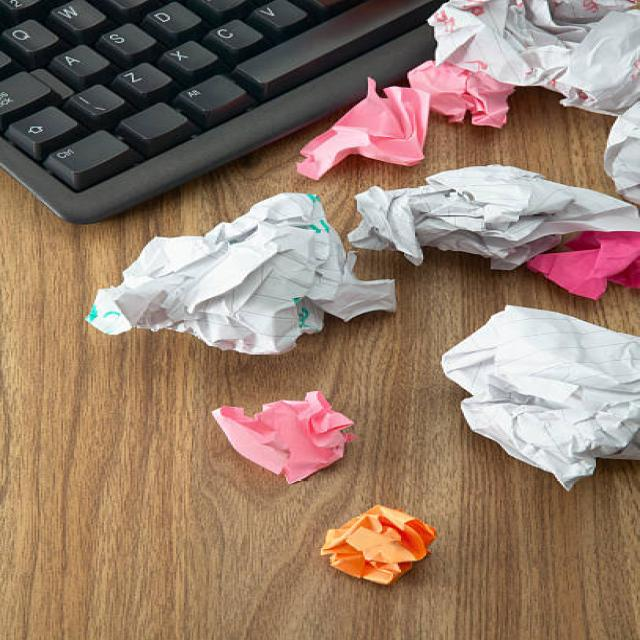electronic: (84, 192, 396, 354), (439, 304, 638, 492), (346, 163, 638, 270), (424, 0, 638, 116), (209, 389, 357, 484), (294, 76, 429, 180), (319, 504, 437, 586), (526, 229, 638, 300), (406, 59, 516, 128), (602, 99, 638, 205)
